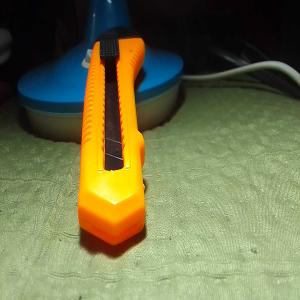estilete: (77, 26, 146, 247)
